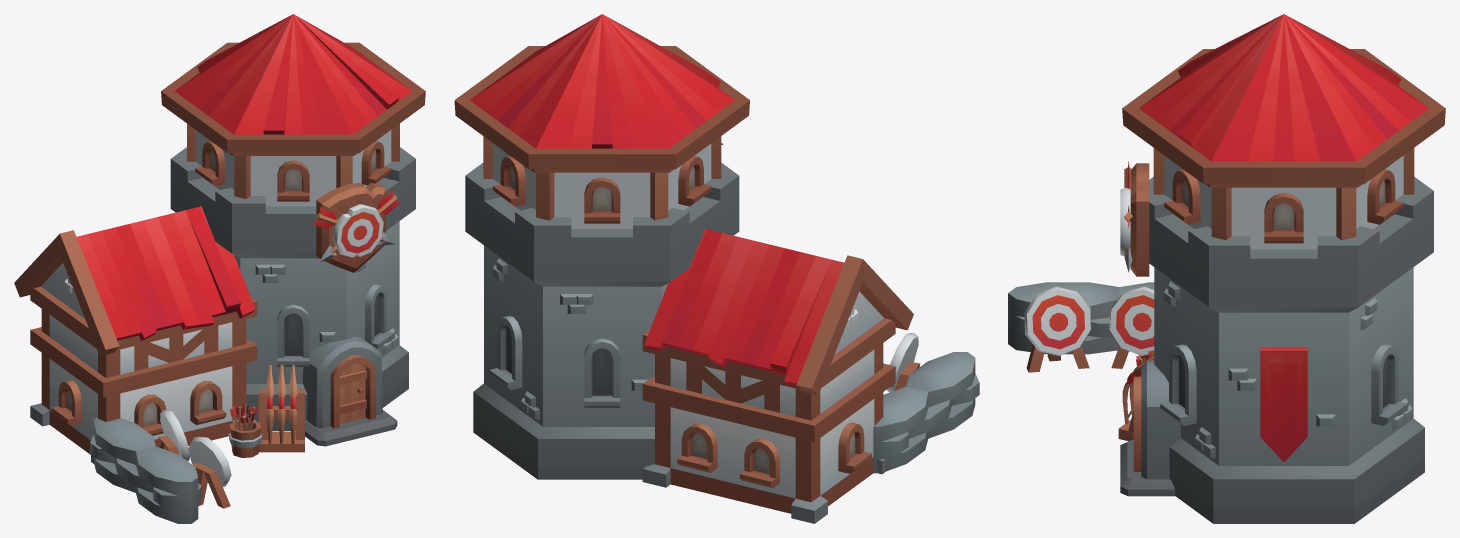
Rendered from archeryrange_red.glb.
3 views of the same model, side by side, from view 1: azimuth 30°, elevation 25°; view 2: azimuth 150°, elevation 25°; view 3: azimuth 270°, elevation 25° (orthographic). The views are drawn at different scales.
Visible parts, largest first — view 1: building_archeryrange_red; view 2: building_archeryrange_red; view 3: building_archeryrange_red.
Part boxes in pixels (<box>): building_archeryrange_red: <box>14,14,425,523</box>; building_archeryrange_red: <box>454,14,979,523</box>; building_archeryrange_red: <box>1008,14,1445,523</box>.
Size of the model in its own units: 1.67 by 1.79 by 1.55.
1 material, 1 textured.
